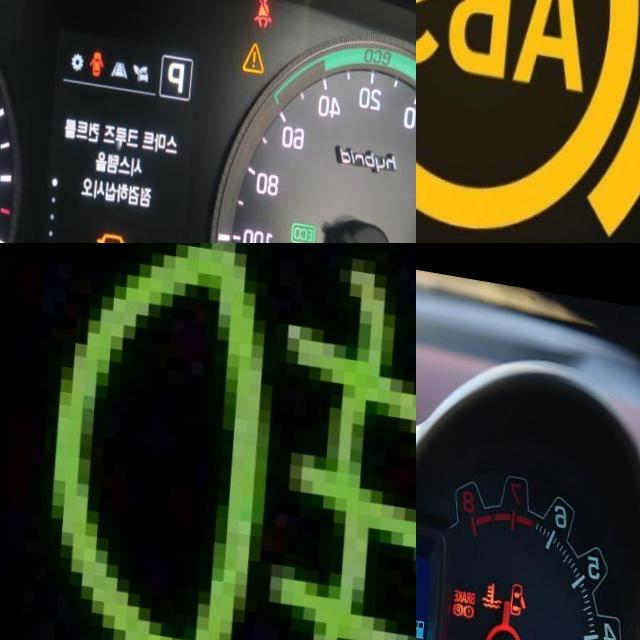Central Warning lamp: (247, 26, 270, 60)
Doors: (516, 565, 535, 601), (93, 40, 110, 70)
Engine cooling system: (489, 564, 511, 595)
FrontFogLight: (55, 243, 416, 640)
Low fuel level: (565, 629, 585, 640)
